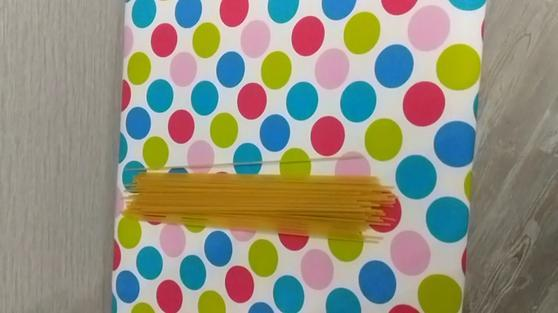spaghetti: (116, 156, 411, 252)
